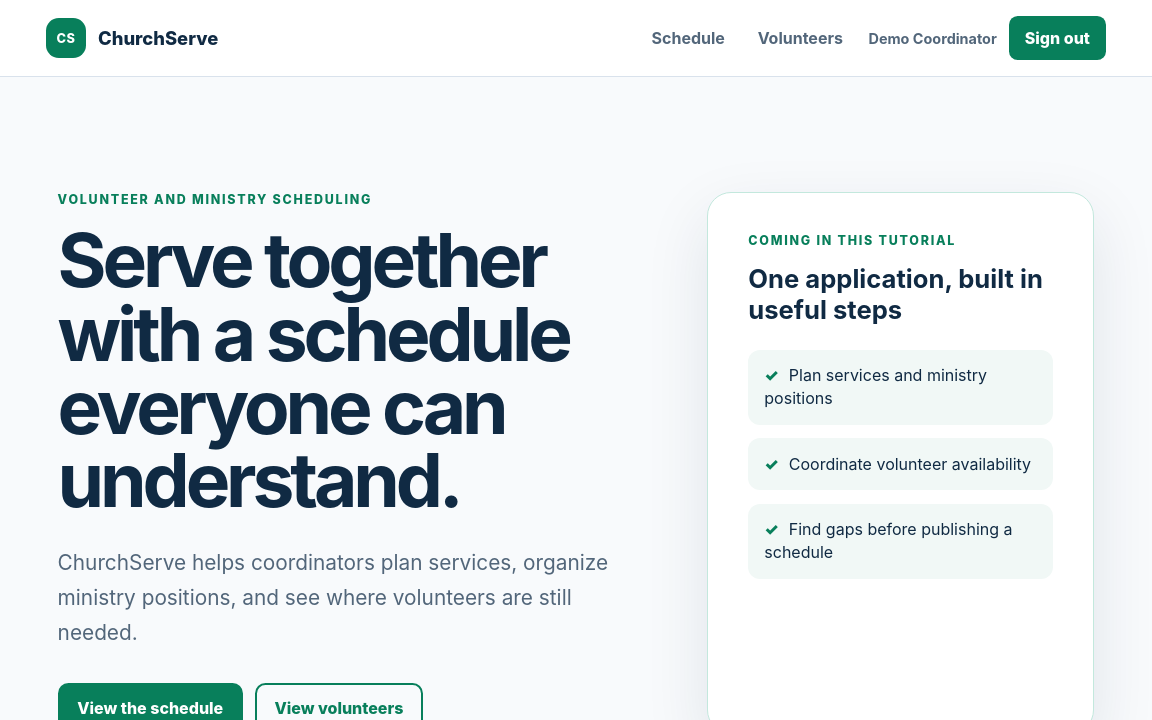
Test: ChurchServe application shell › keeps the authenticated UI honest when sign-out fails
Click the button "Sign out": (1057, 38) x1=1009 y1=16 x2=1106 y2=60
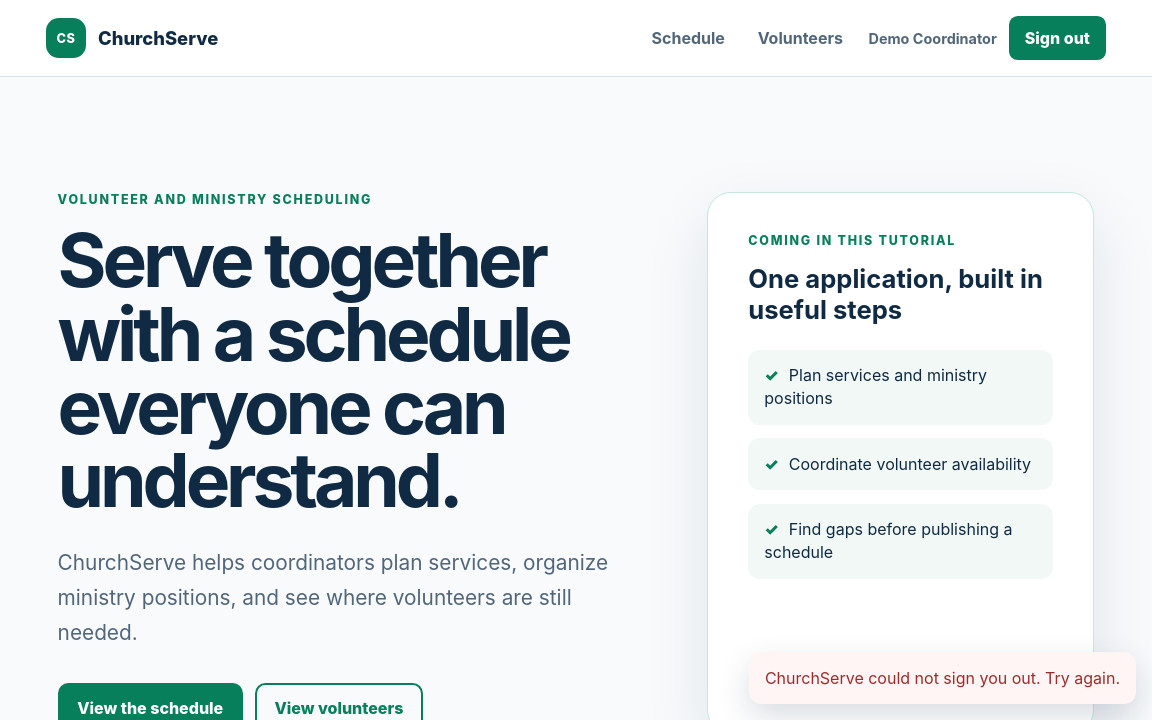
Check: the text "Demo Coordinator" is shown, box x1=868 y1=30 x2=997 y2=46
Check: the message shows "ChurchServe could not sign you out.", box x1=765 y1=668 x2=1120 y2=688
